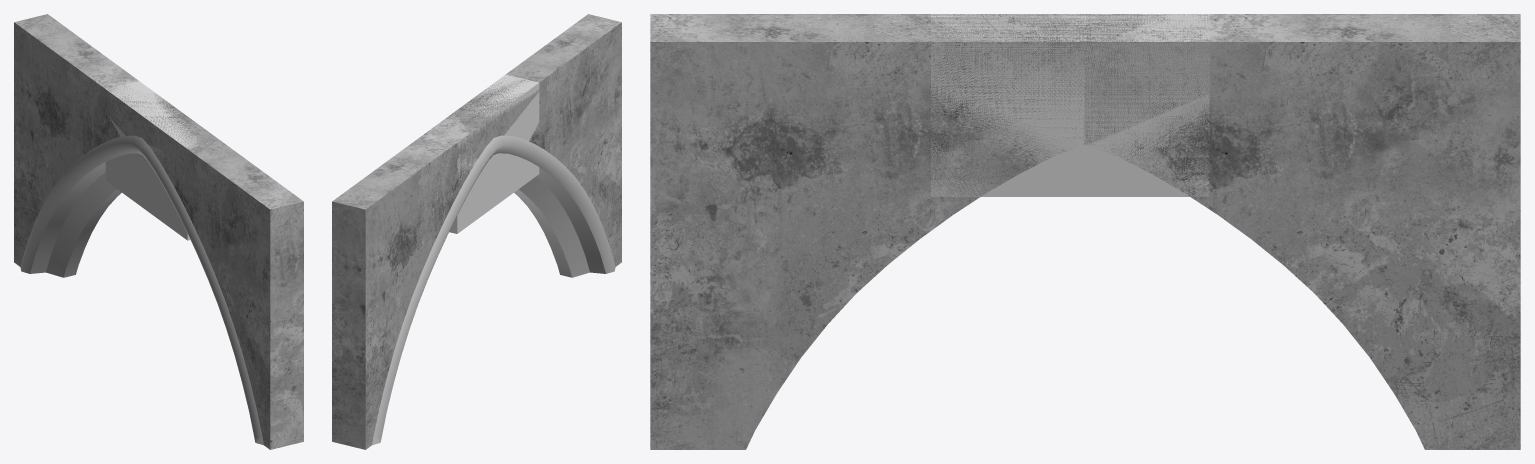
The model's file is SM_ArchWall_01a.fbx.
3 renders of one model, left to right at view 1: azimuth 30°, elevation 25°; view 2: azimuth 150°, elevation 25°; view 3: azimuth 270°, elevation 25°, orthographic. The views are drawn at different scales.
Visible parts, largest first — view 1: SM_ArchWall_01a_LOD0, SM_ArchWall_01a_ConvexHulls; view 2: SM_ArchWall_01a_LOD0, SM_ArchWall_01a_ConvexHulls; view 3: SM_ArchWall_01a_LOD0, SM_ArchWall_01a_ConvexHulls.
Part boxes in pixels (box(x1,y1,x2,y2)): SM_ArchWall_01a_LOD0: box(14, 14, 303, 449); SM_ArchWall_01a_ConvexHulls: box(105, 81, 202, 240); SM_ArchWall_01a_LOD0: box(332, 14, 621, 449); SM_ArchWall_01a_ConvexHulls: box(449, 74, 539, 233); SM_ArchWall_01a_LOD0: box(650, 14, 1520, 449); SM_ArchWall_01a_ConvexHulls: box(931, 14, 1209, 196).
Size of the model in its own units: 67.59 by 800 by 414.
